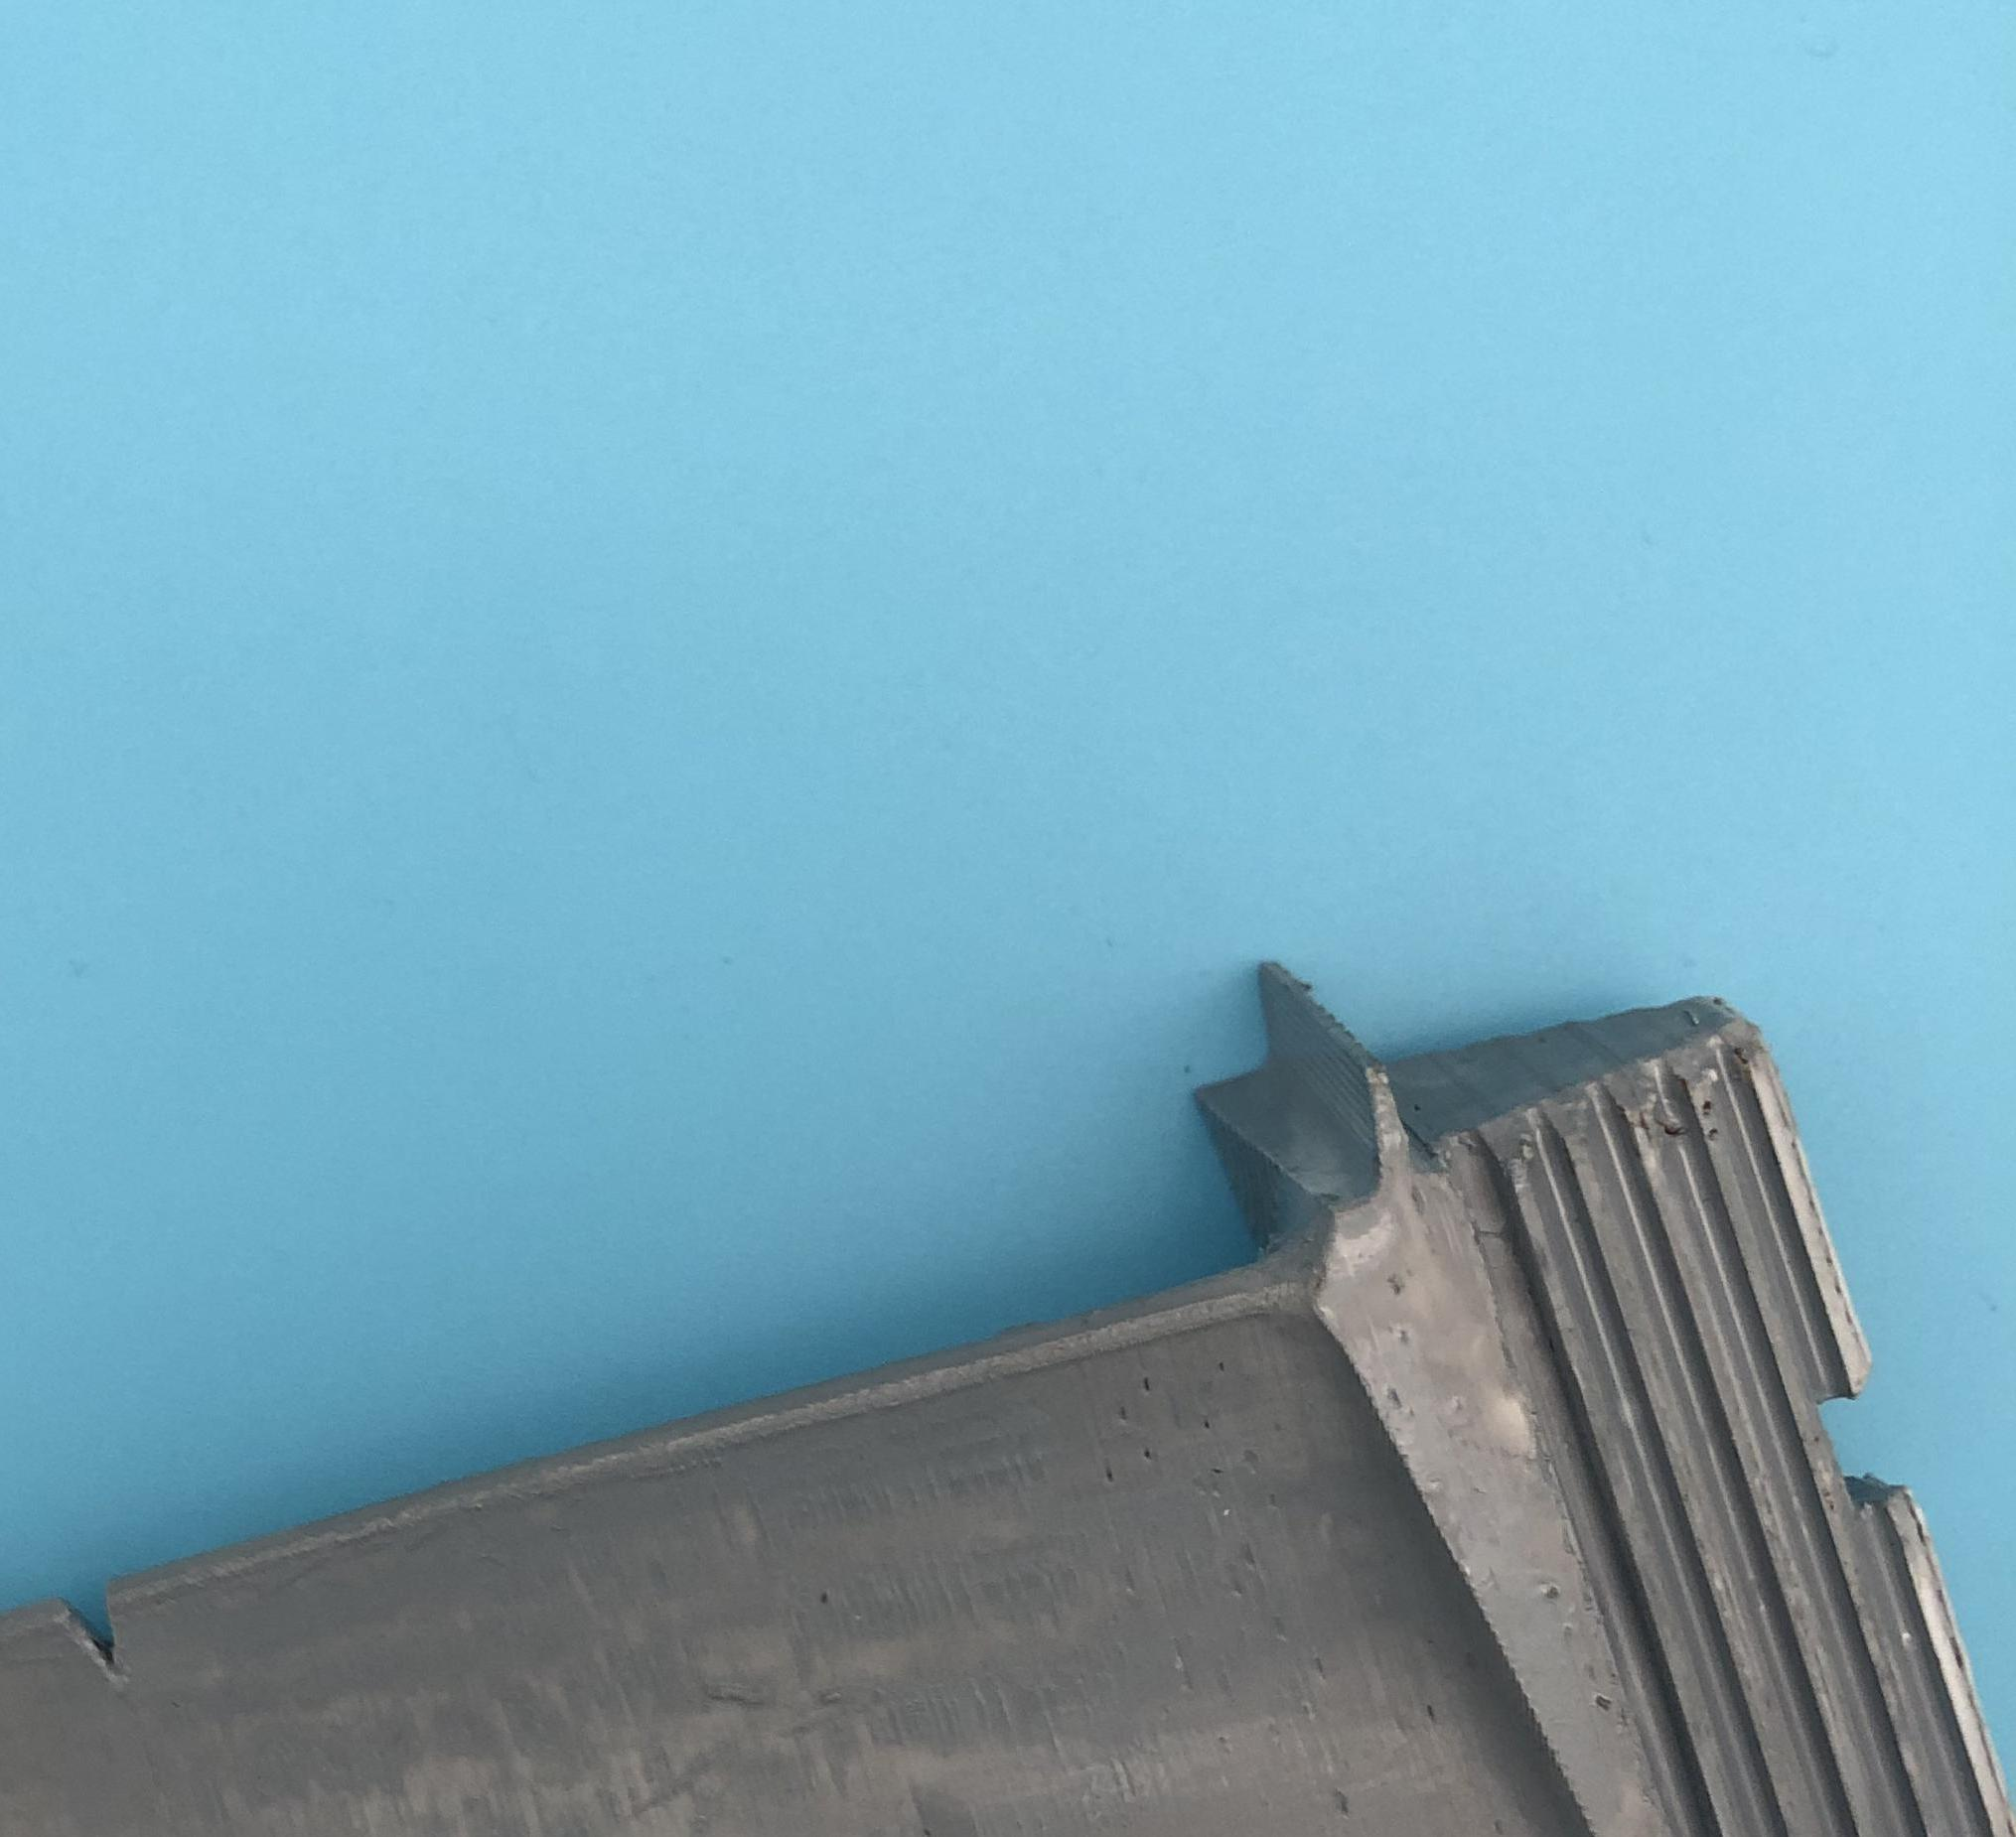groove: (44, 1584, 149, 1689)
